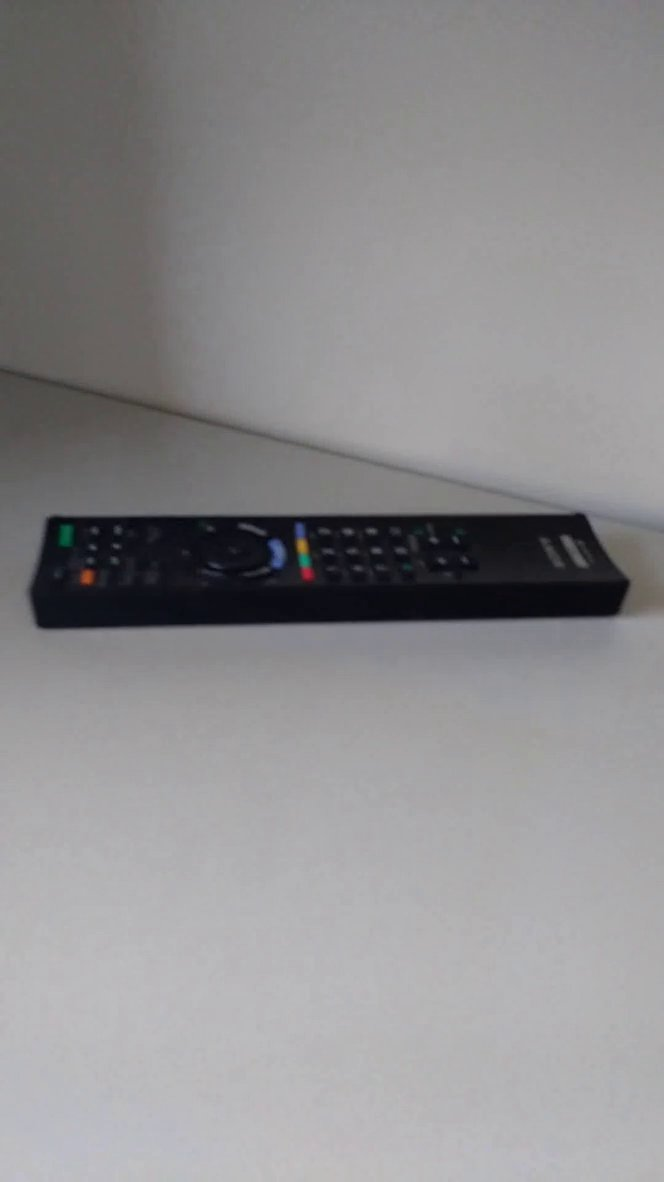remote: (16, 455, 646, 670)
